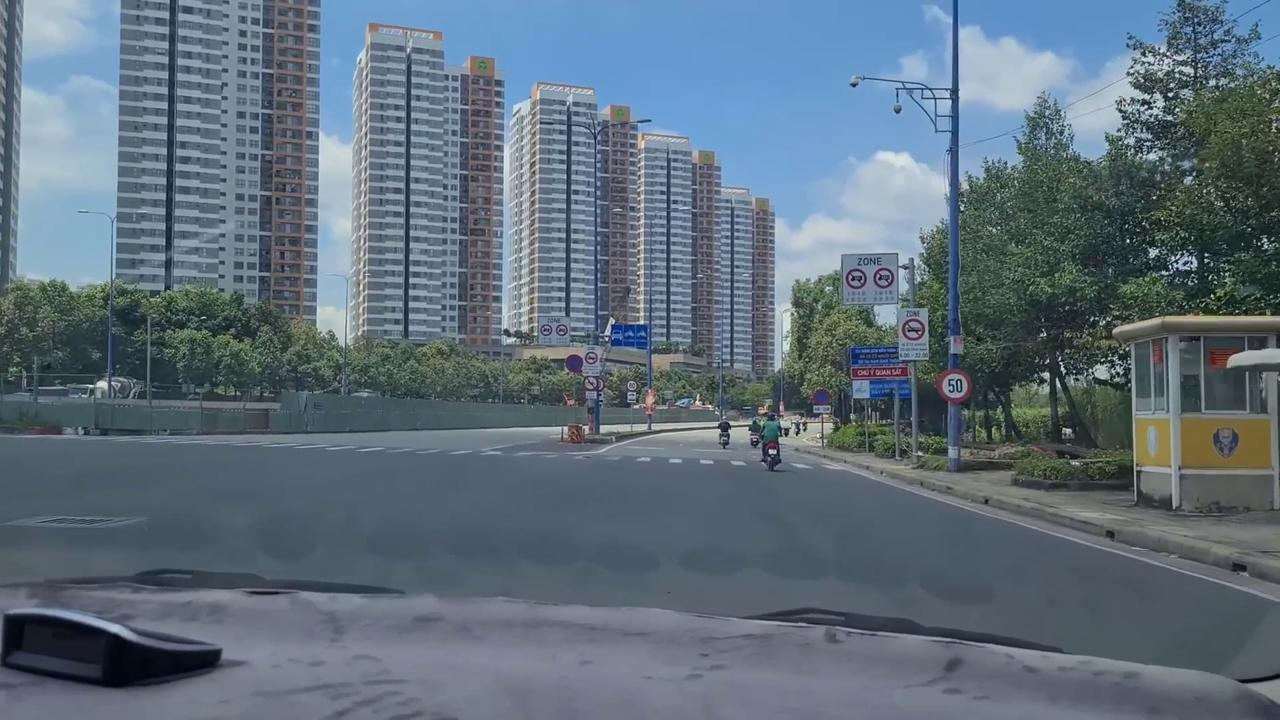Biển phụ: (627, 391, 638, 403)
Cấm cac phương tiện hoạt động trong khung giờ cố định: (839, 253, 899, 306), (896, 307, 931, 361), (536, 316, 570, 346), (582, 344, 600, 377)
Cấm dừng - Cấm đỗ: (812, 387, 831, 406), (565, 353, 583, 373)
Cấm xe máy: (583, 375, 600, 392)
Giới hạn tốc độ 50Km/h: (935, 367, 973, 404)
Giới hạn tốc độ 80Km/h: (626, 378, 638, 391)
Khác: (845, 345, 916, 400)
Làn đường cho từng xe: (610, 322, 649, 350)
